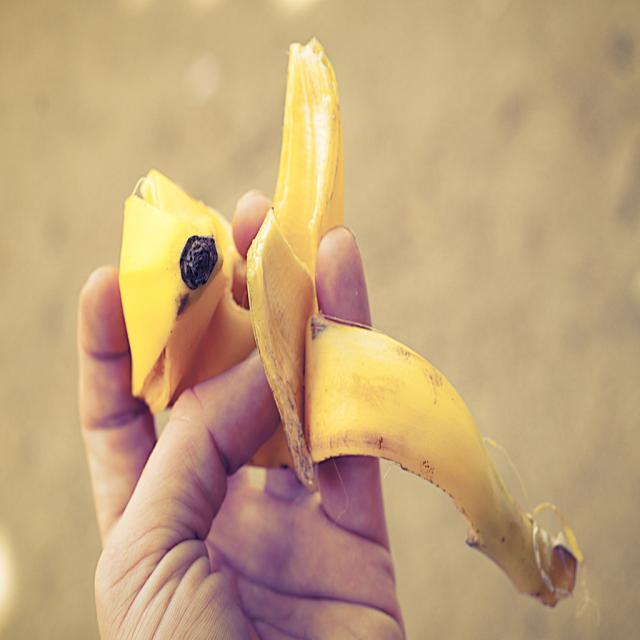Banana: (119, 38, 601, 631)
